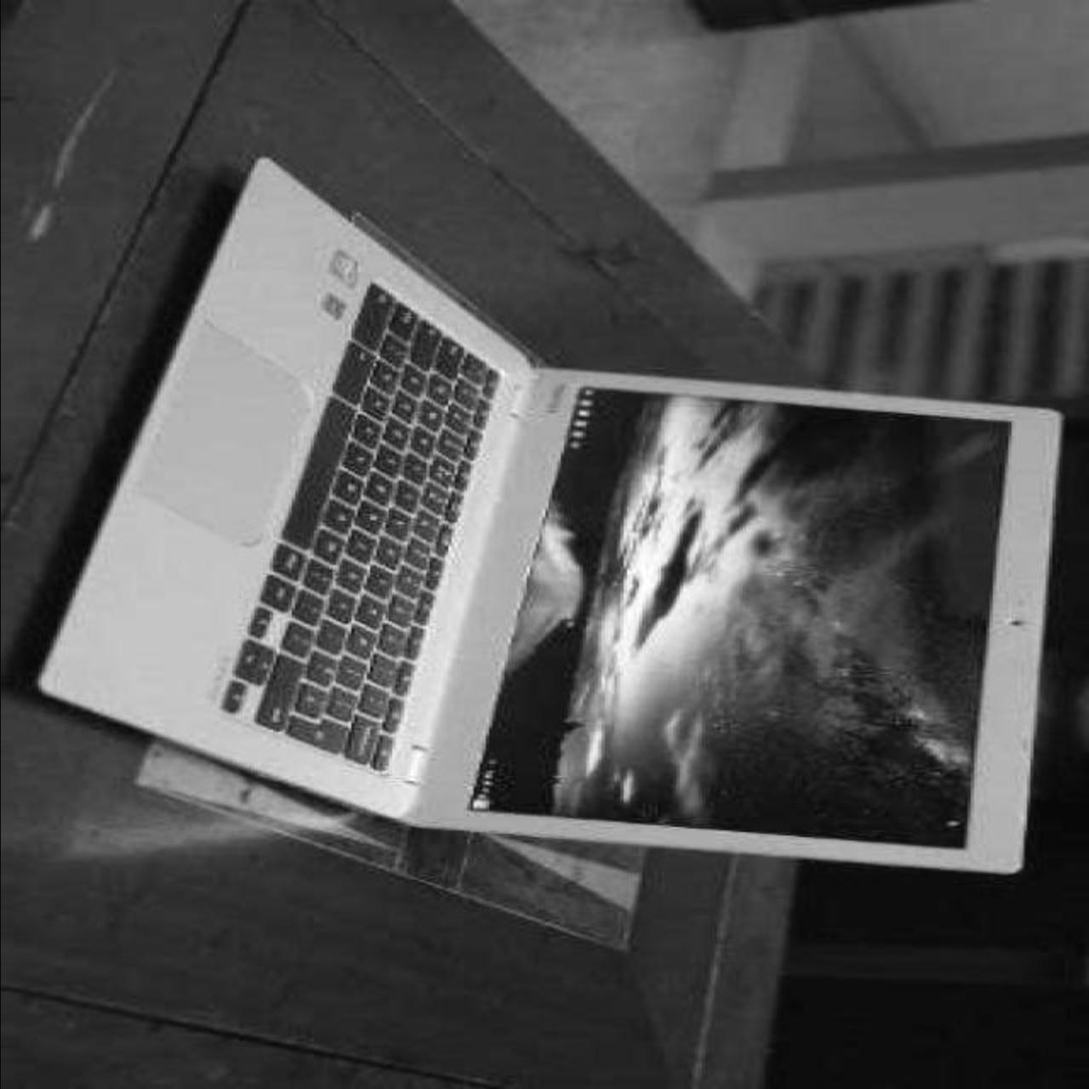laptop: (40, 151, 1066, 921)
